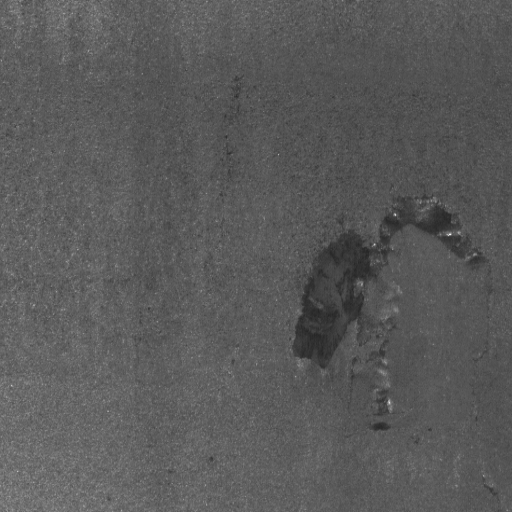aokeng: (288, 190, 488, 433)
